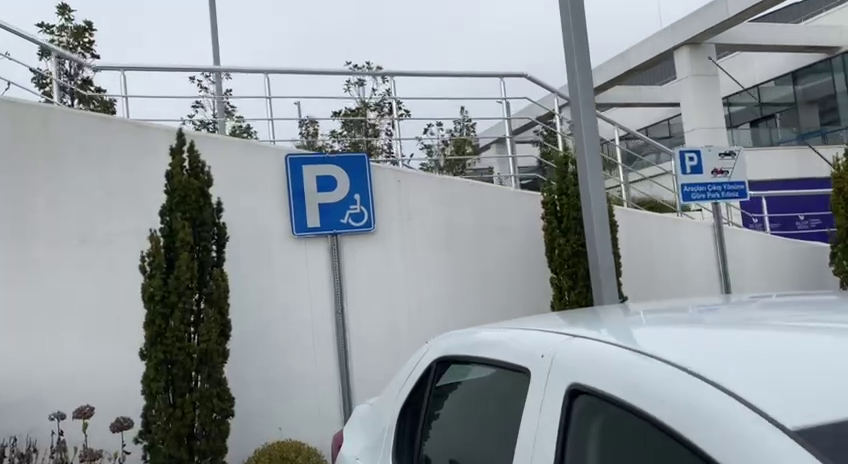parking: (284, 150, 378, 237), (678, 148, 704, 177)
